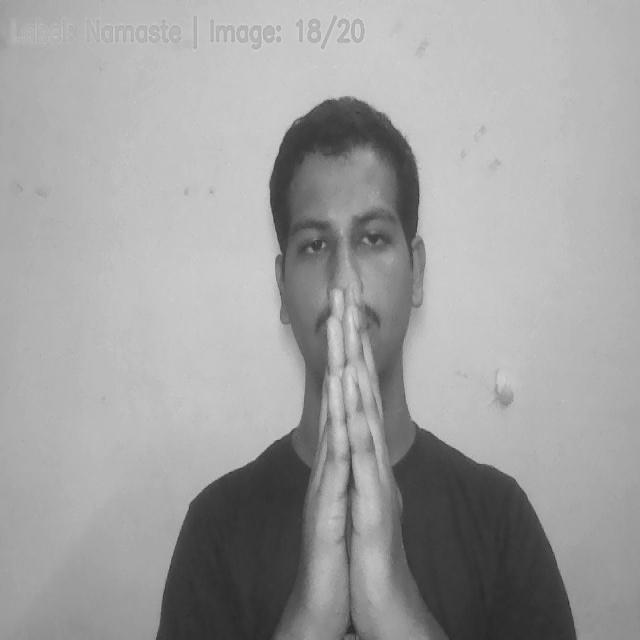Namaste: (310, 283, 399, 635)
